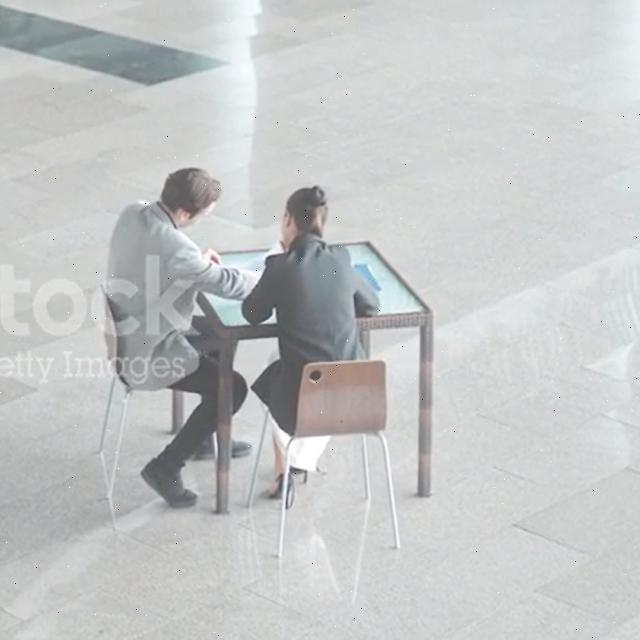sitting: (105, 167, 256, 508), (242, 186, 379, 503)
